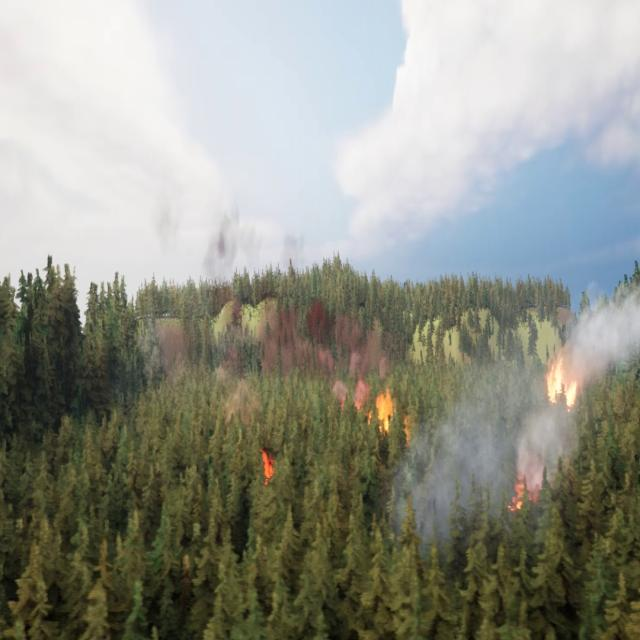fire: (546, 357, 577, 404), (508, 476, 542, 512), (371, 388, 399, 428), (263, 447, 277, 484)
smoke: (394, 294, 640, 544), (153, 191, 389, 390)
